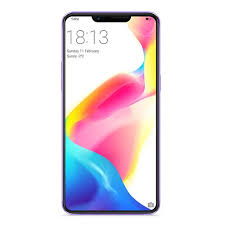oppo: (59, 7, 160, 215)
